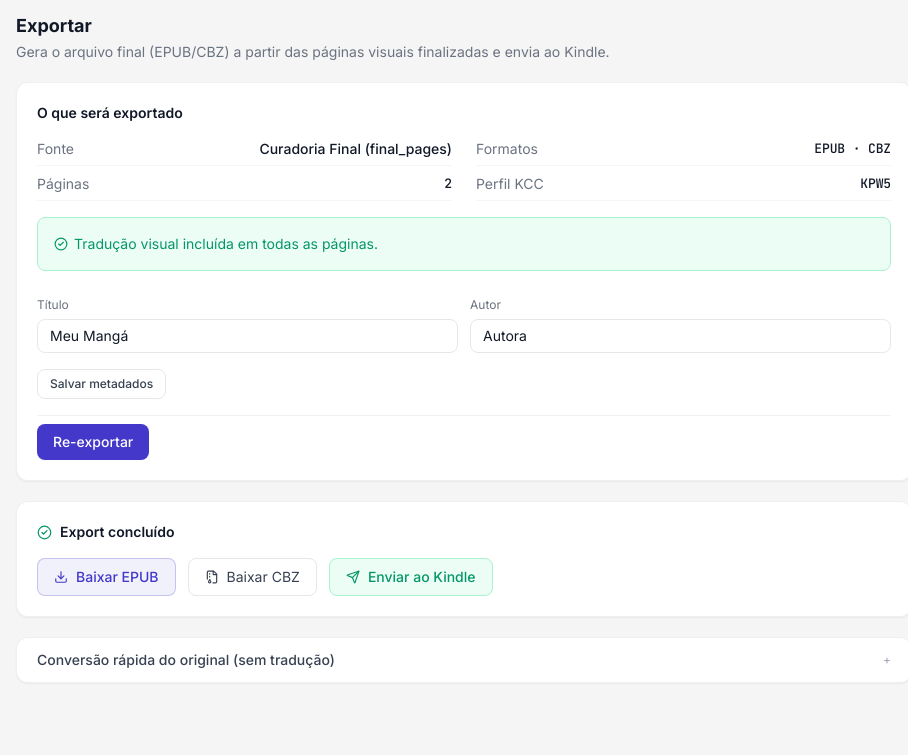
Test case: ComicExportPage — Estabilização v1 › envio bloqueado (409 COMIC_EXPORT_REQUIRED) exibe mensagem estruturada
Step 1. Click the button "Enviar ao Kindle" → point(411, 577), box [329, 558, 492, 596]
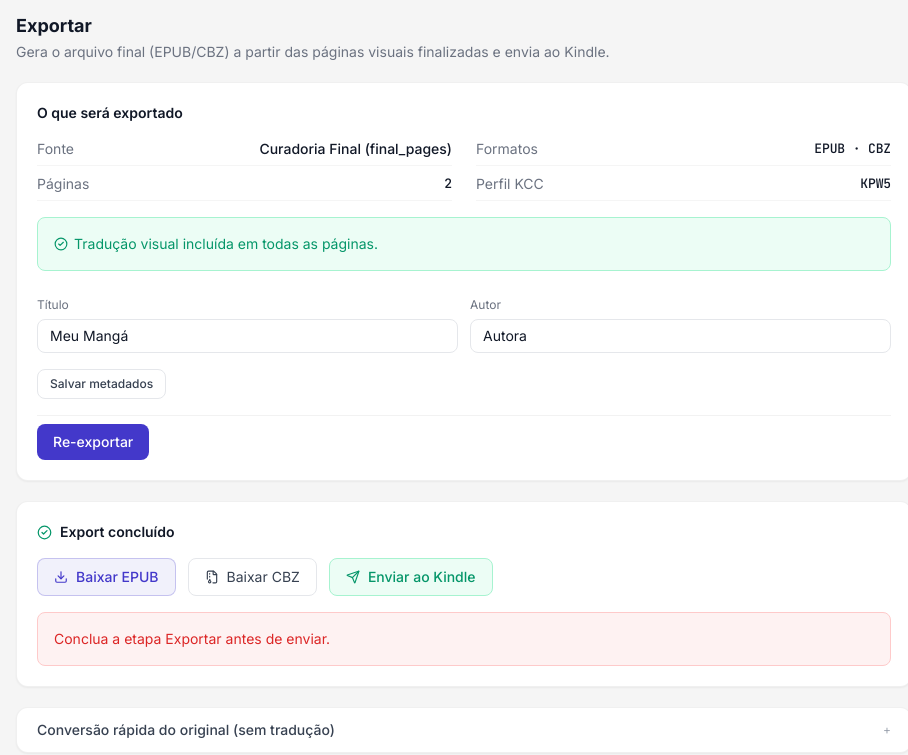
Check: the text "Conclua a etapa Exportar antes de enviar." is shown, box [37, 612, 891, 666]
